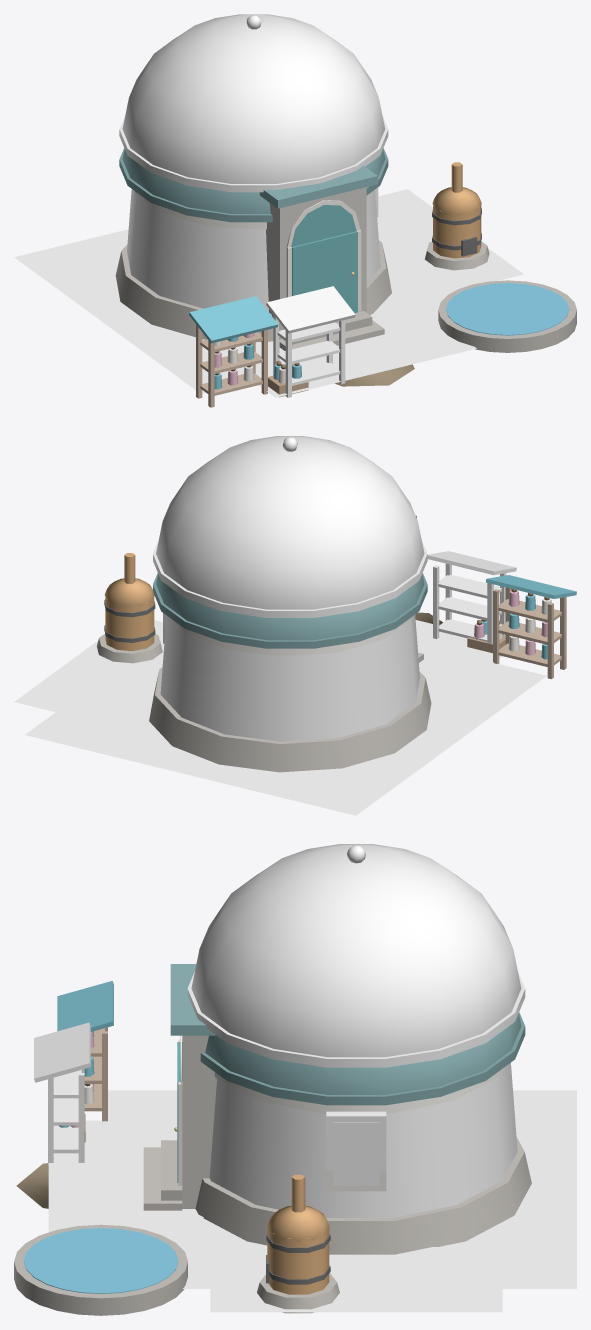
The model's file is spa_2.glb.
3 renders of one model, top to bottom at view 1: azimuth 30°, elevation 25°; view 2: azimuth 150°, elevation 25°; view 3: azimuth 270°, elevation 25°, orthographic. The views are drawn at different scales.
Visible parts, largest first — view 1: when_plan_true, body4, spa_2, body3; view 2: when_plan_true, body4, spa_2, body3; view 3: when_plan_true, body4, spa_2.
Part boxes in pixels (x1,y1,x2,y2): when_plan_true: (119,14,388,397); body4: (115,148,576,407); spa_2: (14,189,523,397); body3: (214,333,308,397); when_plan_true: (153,436,516,741); body4: (96,515,576,772); spa_2: (14,620,546,815); body3: (467,589,551,653); when_plan_true: (34,844,525,1217); body4: (14,964,531,1315); spa_2: (48,1090,576,1312).
Size of the model in its own units: 2.69 by 1.88 by 2.8.
